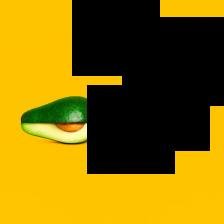green: (125, 97, 205, 144), (21, 97, 100, 144)
